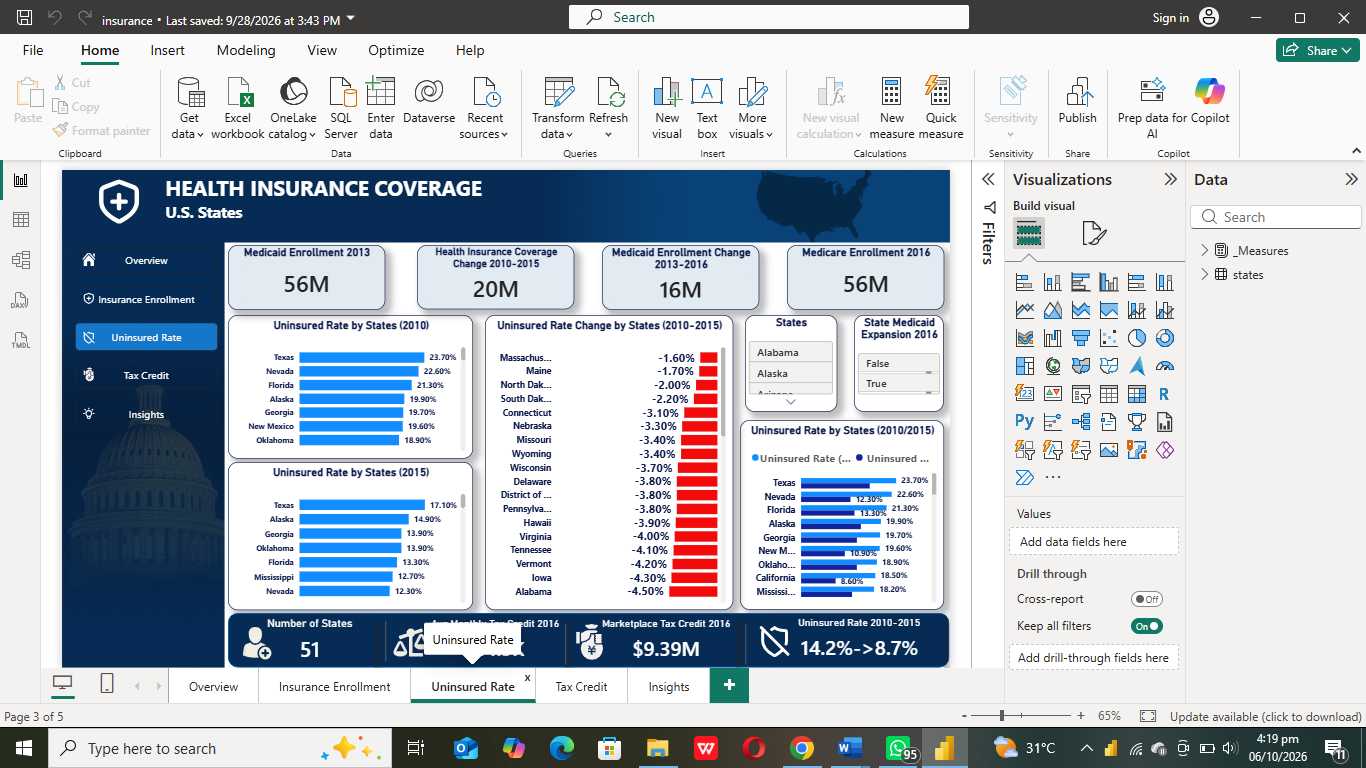

The page's visual inventory and layout, read from the dashboard file:
{"tool":"powerbi","page":{"name":"Uninsured Rate","canvas":[1366,768],"ordinal":2},"visuals":[{"type":"clusteredBarChart","title":"Uninsured Rate by States  (2010)","fields":{"Category":["states.State"],"Y":["Sum(states.Uninsured Rate (2010))"]},"box":[256.1,223.1,377.1,220.8],"z":0},{"type":"clusteredBarChart","title":"Uninsured Rate by States (2010/2015)","fields":{"Category":["states.State"],"Y":["Sum(states.Uninsured Rate (2010))","Sum(states.Uninsured Rate (2015))"]},"box":[1043.1,384.6,313.8,292.3],"z":1000},{"type":"cardVisual","title":"Medicaid Enrollment Change 2013-2016","fields":{"Data":["_Measures.medicaid enrollment change 2013-2016"]},"box":[830.9,115.8,242.2,99.7],"z":2000},{"type":"clusteredBarChart","title":"Uninsured Rate by States  (2015)","fields":{"Category":["states.State"],"Y":["Sum(states.Uninsured Rate (2015))"]},"box":[255.4,448.8,376.5,228],"z":3000},{"type":"image","box":[255,131.7,75.6,65.5],"z":4000},{"type":"cardVisual","title":"Medicaid Enrollment 2013","fields":{"Data":["_Measures.Medicaid enrollment 2013"]},"box":[255.4,115.4,241.5,100],"z":5000},{"type":"cardVisual","title":"Medicare Enrollment 2016","fields":{"Data":["_Measures.medicare enrrollment 2016"]},"box":[1115.4,115.4,242.2,99.7],"z":6000},{"type":"cardVisual","title":"Health Insurance Coverage Change 2010-2015 ","fields":{"Data":["_Measures.total health insurance coverage change"]},"box":[546.2,115.4,242.3,99.3],"z":7000},{"type":"cardVisual","title":"States","fields":{"Rows":["states.State"]},"box":[1050.8,223.1,141.5,149.2],"z":8000},{"type":"cardVisual","title":"State Medicaid Expansion 2016","fields":{"Rows":["states.State Medicaid Expansion (2016)"]},"box":[1218.5,223.1,138.5,149.2],"z":9000},{"type":"clusteredBarChart","title":"Uninsured Rate Change by States (2010-2015)","fields":{"Category":["states.State"],"Y":["Sum(states.Uninsured Rate Change (2010-2015))"]},"box":[650.8,223.1,381.5,453.8],"z":10000},{"type":"textbox","box":[153.3,0,860,103.3],"z":11000},{"type":"pageNavigator","box":[20,116.9,220,281.5],"z":12000},{"type":"image","box":[30.5,123.8,21.2,29.1],"z":13000},{"type":"image","box":[30.5,183.4,21.2,29.1],"z":14000},{"type":"image","box":[30.4,242.5,21.2,29.1],"z":15000},{"type":"image","box":[30.3,300,21.2,29.1],"z":16000},{"type":"image","box":[765.8,698.1,90.7,55.4],"z":16000,"group":"g3"},{"type":"image","box":[30.7,359.5,21.2,29.1],"z":17000},{"type":"image","box":[276.1,697,50.4,62.2],"z":17000,"group":"g1"},{"type":"image","box":[30.8,7,113.8,81.5],"z":18000},{"type":"image","box":[504,699.9,63.8,53.8],"z":18000,"group":"g2"},{"type":"shape","box":[254.7,682.1,1109.5,83.7],"z":19000},{"type":"shape","box":[1011.6,698.1,79,62.2],"z":20000},{"type":"shape","box":[457.7,694.6,79,62.2],"z":21000},{"type":"group","id":"g1","title":"Group 8","box":[276.1,697,50.4,62.2],"z":22000},{"type":"image","box":[1050.8,696.4,90.7,55.4],"z":23000,"group":"g4"},{"type":"group","id":"g2","title":"Group 9","box":[504,699.9,64.1,53.4],"z":23000},{"type":"group","id":"g3","title":"Group 10","box":[765.8,698.1,90.8,55.2],"z":24000},{"type":"group","id":"g4","title":"Group 11","box":[1050.8,696.4,92.6,55.2],"z":25000},{"type":"cardVisual","title":"Avg Monthly Tax Credit 2016","fields":{"Data":["_Measures.Total Average Monthly Tax Credit 2016"]},"box":[559.2,687.5,216.5,80],"z":26000},{"type":"cardVisual","title":"Number of States","fields":{"Data":["_Measures.total states"]},"box":[283.2,687.4,196.5,80.6],"z":27000},{"type":"cardVisual","title":"Marketplace Tax Credit 2016","fields":{"Data":["_Measures.Total Marketplace Tax Credit 2016"]},"box":[821,687.5,216.5,80],"z":28000},{"type":"cardVisual","title":"Uninsured Rate 2010-2015","fields":{"Data":["_Measures.Uninsured Rate"]},"box":[1097.1,685.7,260,80.1],"z":29000},{"type":"shape","box":[735.4,698.5,79,62.2],"z":30000}]}

Visuals, with their boxes on the page's 1366x768 design canvas (x1, y1, x2, y2). These are canvas units, not pixel positions in the 1366x768 screenshot, which may show the page scaled, cropped or inside an application window:
"Uninsured Rate by States  (2010)" clusteredBarChart: (x1=256, y1=223, x2=633, y2=444)
"Uninsured Rate by States (2010/2015)" clusteredBarChart: (x1=1043, y1=385, x2=1357, y2=677)
"Medicaid Enrollment Change 2013-2016" cardVisual: (x1=831, y1=116, x2=1073, y2=216)
"Uninsured Rate by States  (2015)" clusteredBarChart: (x1=255, y1=449, x2=632, y2=677)
image: (x1=255, y1=132, x2=331, y2=197)
"Medicaid Enrollment 2013" cardVisual: (x1=255, y1=115, x2=497, y2=215)
"Medicare Enrollment 2016" cardVisual: (x1=1115, y1=115, x2=1358, y2=215)
"Health Insurance Coverage Change 2010-2015 " cardVisual: (x1=546, y1=115, x2=788, y2=215)
"States" cardVisual: (x1=1051, y1=223, x2=1192, y2=372)
"State Medicaid Expansion 2016" cardVisual: (x1=1218, y1=223, x2=1357, y2=372)
"Uninsured Rate Change by States (2010-2015)" clusteredBarChart: (x1=651, y1=223, x2=1032, y2=677)
textbox: (x1=153, y1=0, x2=1013, y2=103)
pageNavigator: (x1=20, y1=117, x2=240, y2=398)
image: (x1=30, y1=124, x2=52, y2=153)
image: (x1=30, y1=183, x2=52, y2=212)
image: (x1=30, y1=242, x2=52, y2=272)
image: (x1=30, y1=300, x2=52, y2=329)
image: (x1=766, y1=698, x2=856, y2=754)
image: (x1=31, y1=360, x2=52, y2=389)
image: (x1=276, y1=697, x2=326, y2=759)
image: (x1=31, y1=7, x2=145, y2=88)
image: (x1=504, y1=700, x2=568, y2=754)
shape: (x1=255, y1=682, x2=1364, y2=766)
shape: (x1=1012, y1=698, x2=1091, y2=760)
shape: (x1=458, y1=695, x2=537, y2=757)
"Group 8" group: (x1=276, y1=697, x2=326, y2=759)
image: (x1=1051, y1=696, x2=1142, y2=752)
"Group 9" group: (x1=504, y1=700, x2=568, y2=753)
"Group 10" group: (x1=766, y1=698, x2=857, y2=753)
"Group 11" group: (x1=1051, y1=696, x2=1143, y2=752)
"Avg Monthly Tax Credit 2016" cardVisual: (x1=559, y1=688, x2=776, y2=768)
"Number of States" cardVisual: (x1=283, y1=687, x2=480, y2=768)
"Marketplace Tax Credit 2016" cardVisual: (x1=821, y1=688, x2=1038, y2=768)
"Uninsured Rate 2010-2015" cardVisual: (x1=1097, y1=686, x2=1357, y2=766)
shape: (x1=735, y1=698, x2=814, y2=761)
